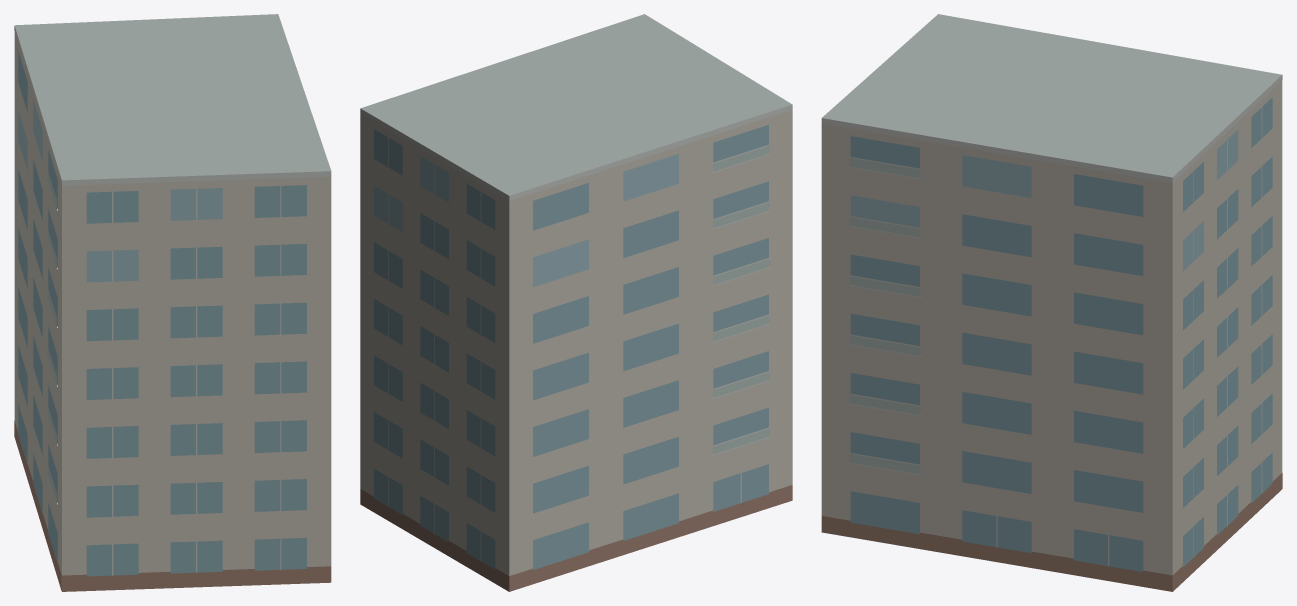
Rendered from survey-upis-32661213.glb.
3 renders of one model, left to right at view 1: azimuth 30°, elevation 25°; view 2: azimuth 150°, elevation 25°; view 3: azimuth 270°, elevation 25°, orthographic. The views are drawn at different scales.
Parts seen in each view (by area): view 1: survey-upis-32661213.tmp; view 2: survey-upis-32661213.tmp; view 3: survey-upis-32661213.tmp.
Part boxes in pixels (x1,y1,x2,y2): survey-upis-32661213.tmp: [14, 14, 331, 591]; survey-upis-32661213.tmp: [360, 14, 792, 591]; survey-upis-32661213.tmp: [821, 14, 1282, 591].
Bounding box in the file's own units: 15.58 × 18.4 × 18.56.
